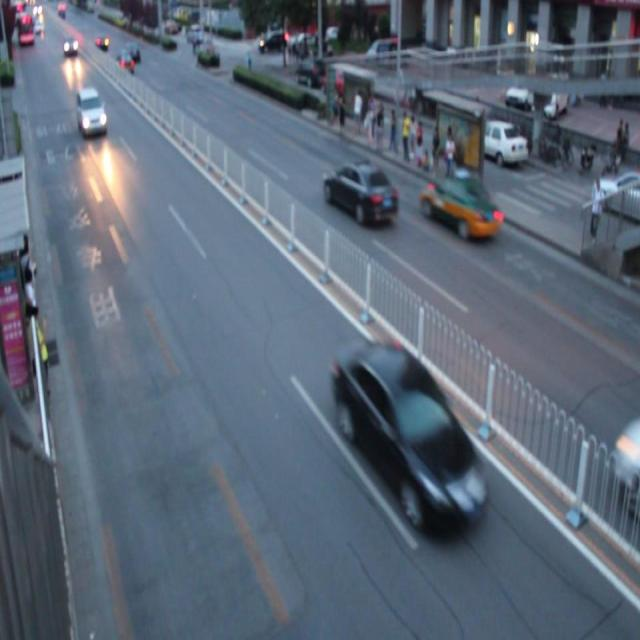car: (331, 336, 490, 537), (420, 170, 502, 242), (324, 157, 397, 225)
truck: (76, 85, 107, 138)
